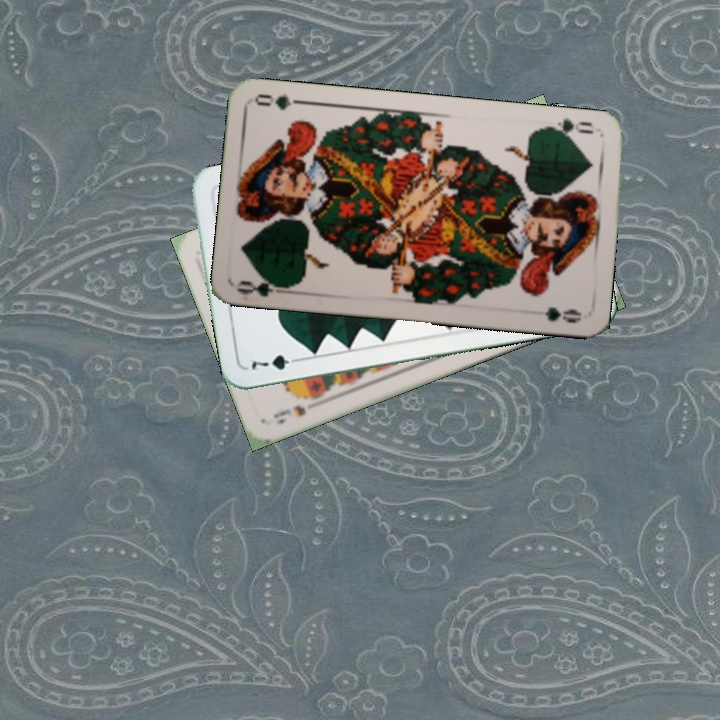G7: (247, 350, 305, 373)
GO: (235, 272, 295, 300), (541, 114, 597, 142)
S9: (268, 401, 309, 428)
